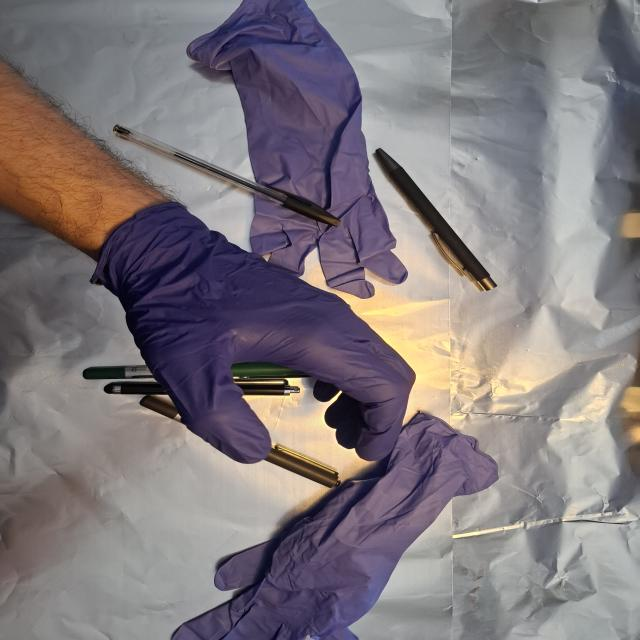glove_on: (103, 205, 420, 467)
